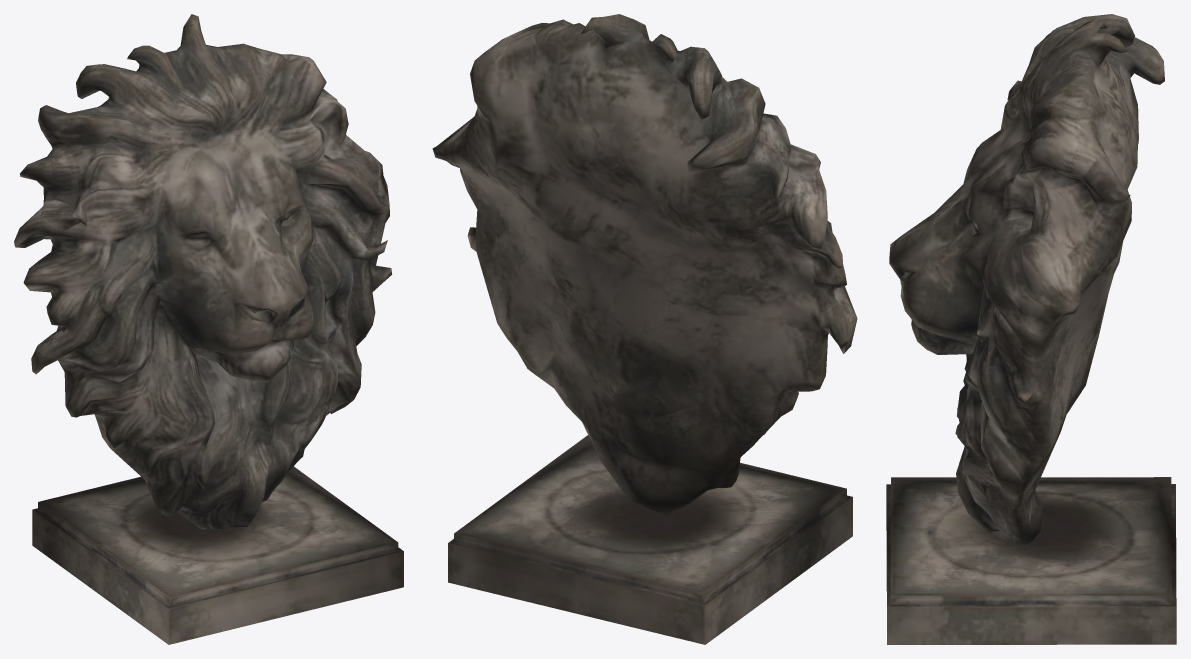
Rendered from lion_head.glb.
3 views of the same model, side by side, from view 1: azimuth 30°, elevation 25°; view 2: azimuth 150°, elevation 25°; view 3: azimuth 270°, elevation 25° (orthographic). The views are drawn at different scales.
Parts seen in each view (by area): view 1: lion_head; view 2: lion_head; view 3: lion_head.
Part boxes in pixels (x1,y1,x2,y2): lion_head: (14, 14, 403, 644); lion_head: (432, 14, 857, 644); lion_head: (886, 14, 1176, 644).
Bounding box in the file's own units: 0.3199 × 0.4358 × 0.2065.
1 material, 1 textured.
